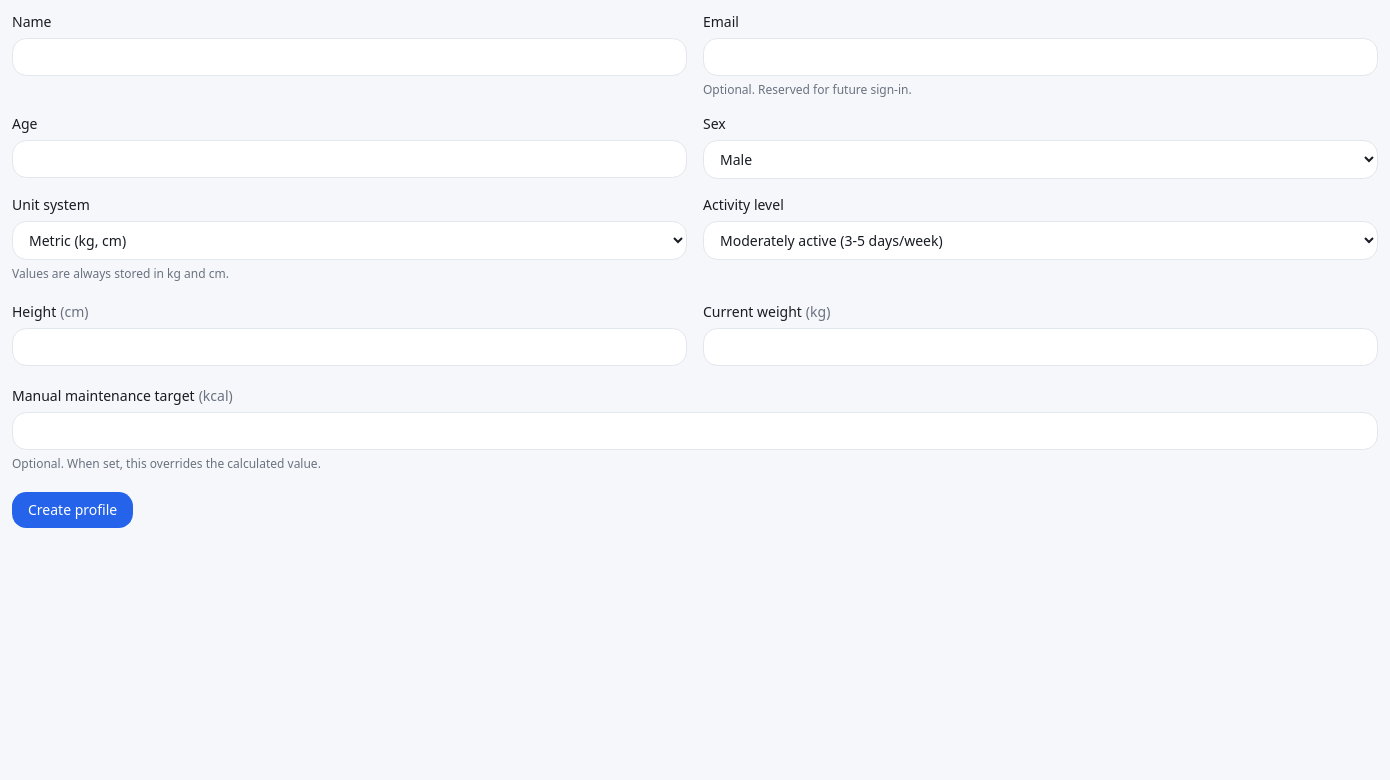
Test case: profile form validation › rejects a height outside 100-250 cm
In the field labelled "Name": (350, 57) top-left (12, 38), bottom-right (687, 76), type "Shreyas"
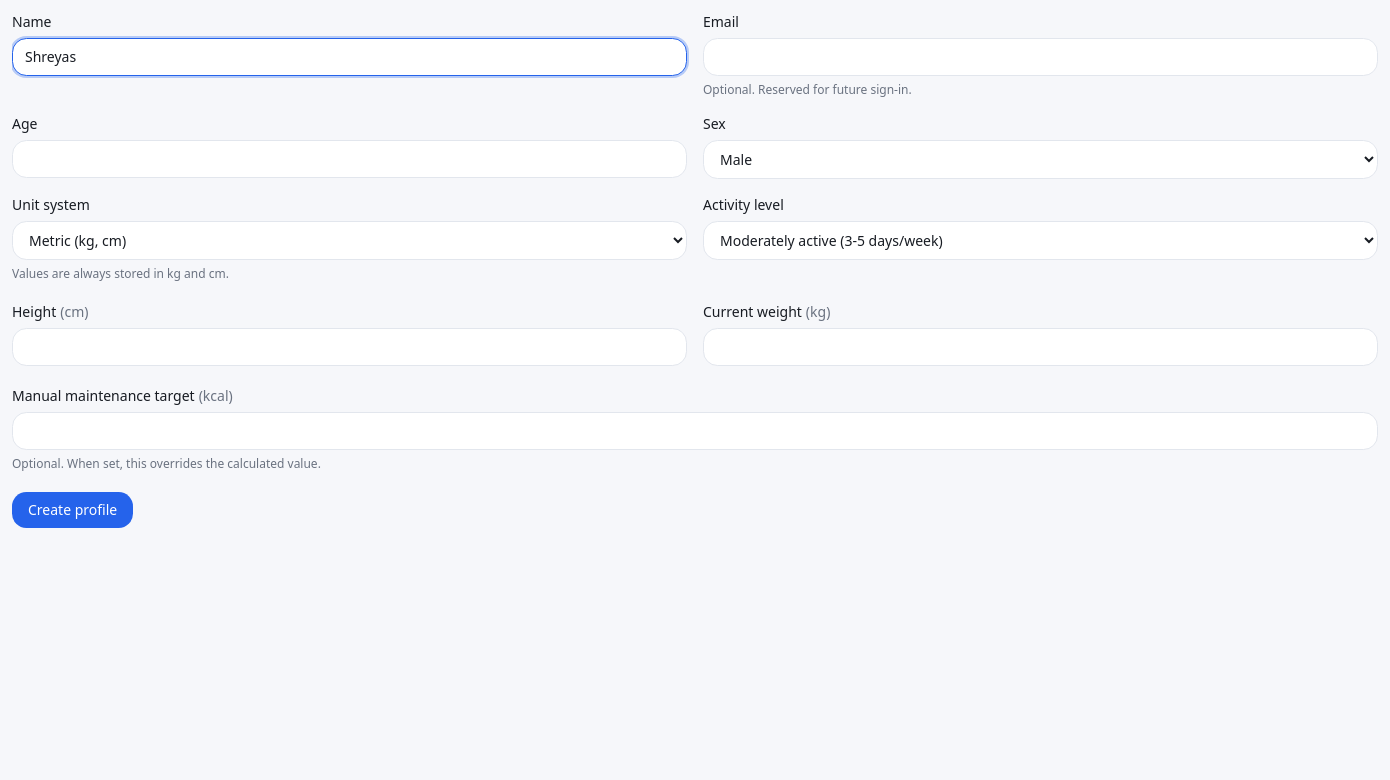
In the number field labelled "Age": (350, 159) top-left (12, 140), bottom-right (687, 178), type "30"
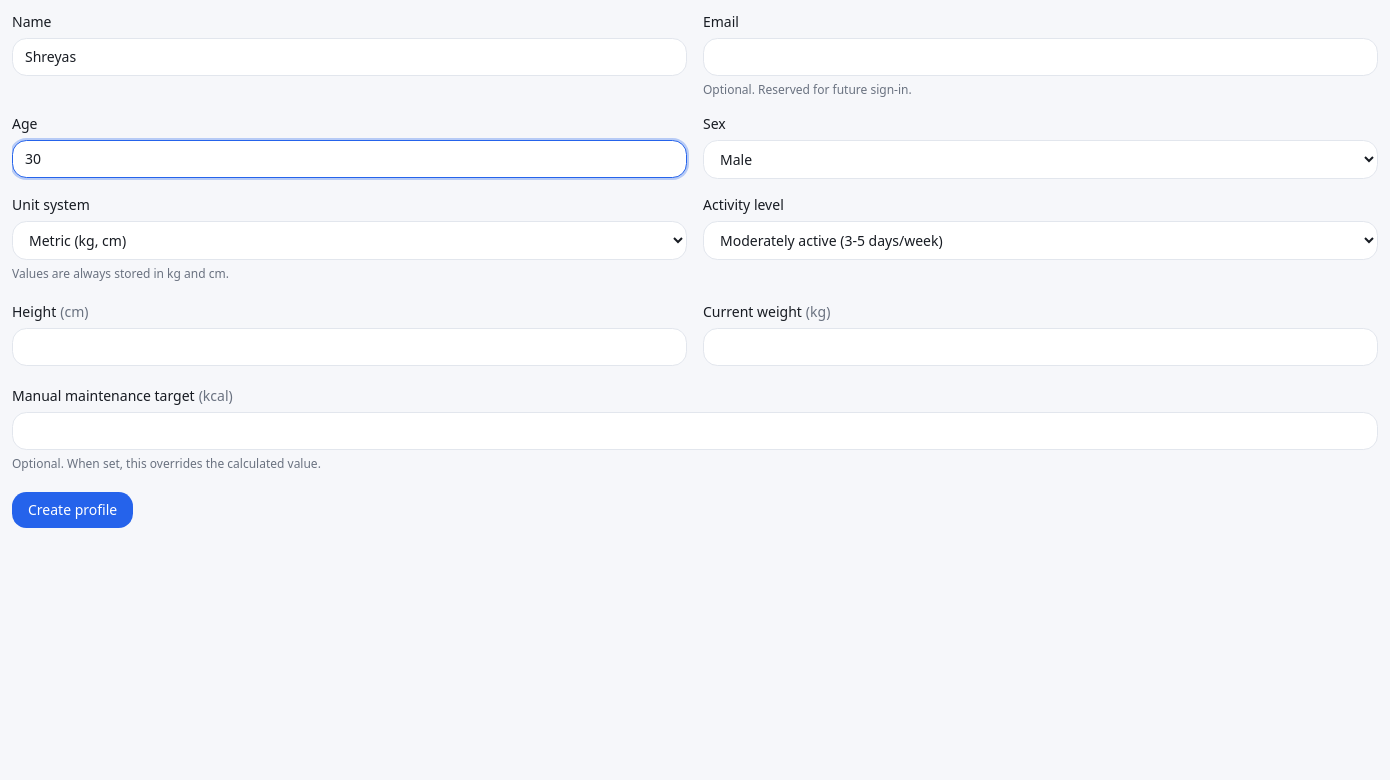
In the number field labelled "Height(cm)": (350, 347) top-left (12, 328), bottom-right (687, 366), type "300"
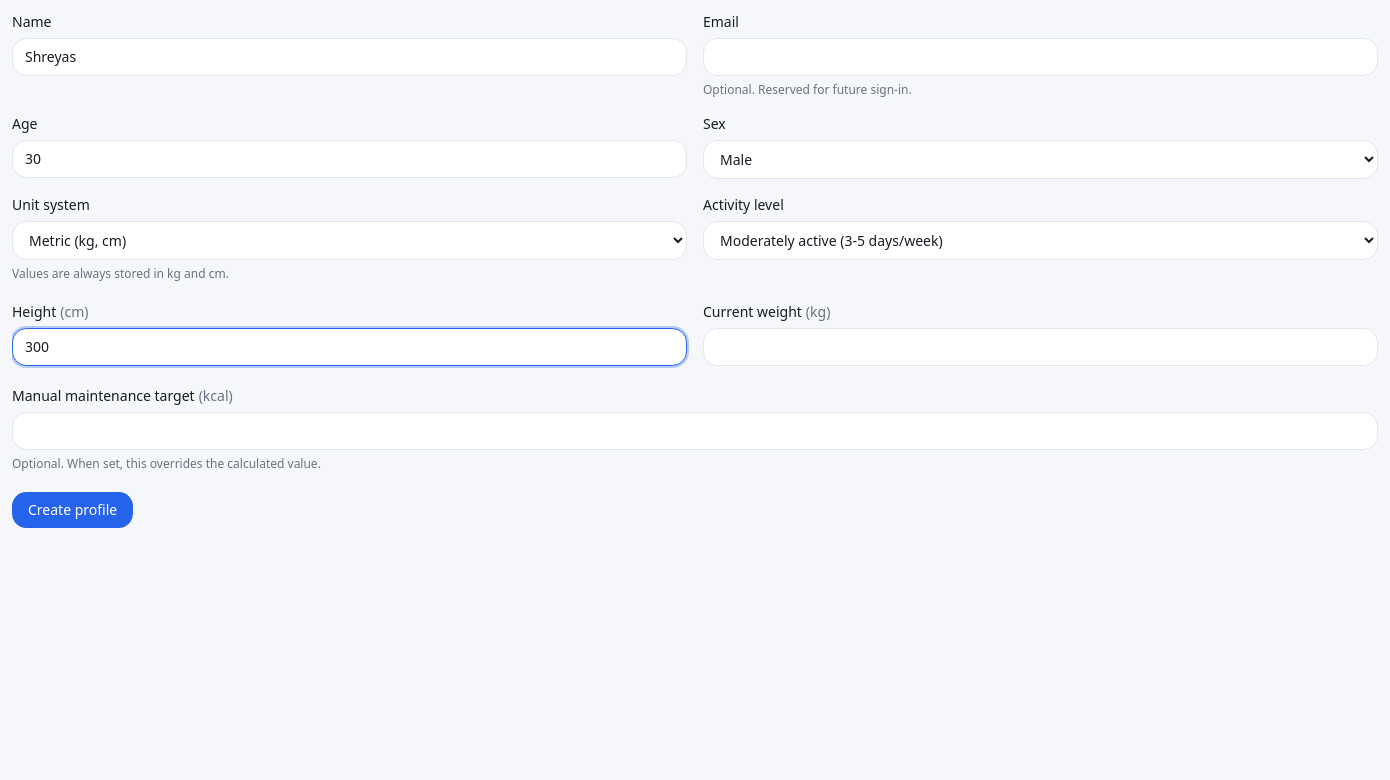
In the number field labelled "Current weight(kg)": (1040, 347) top-left (703, 328), bottom-right (1378, 366), type "80"
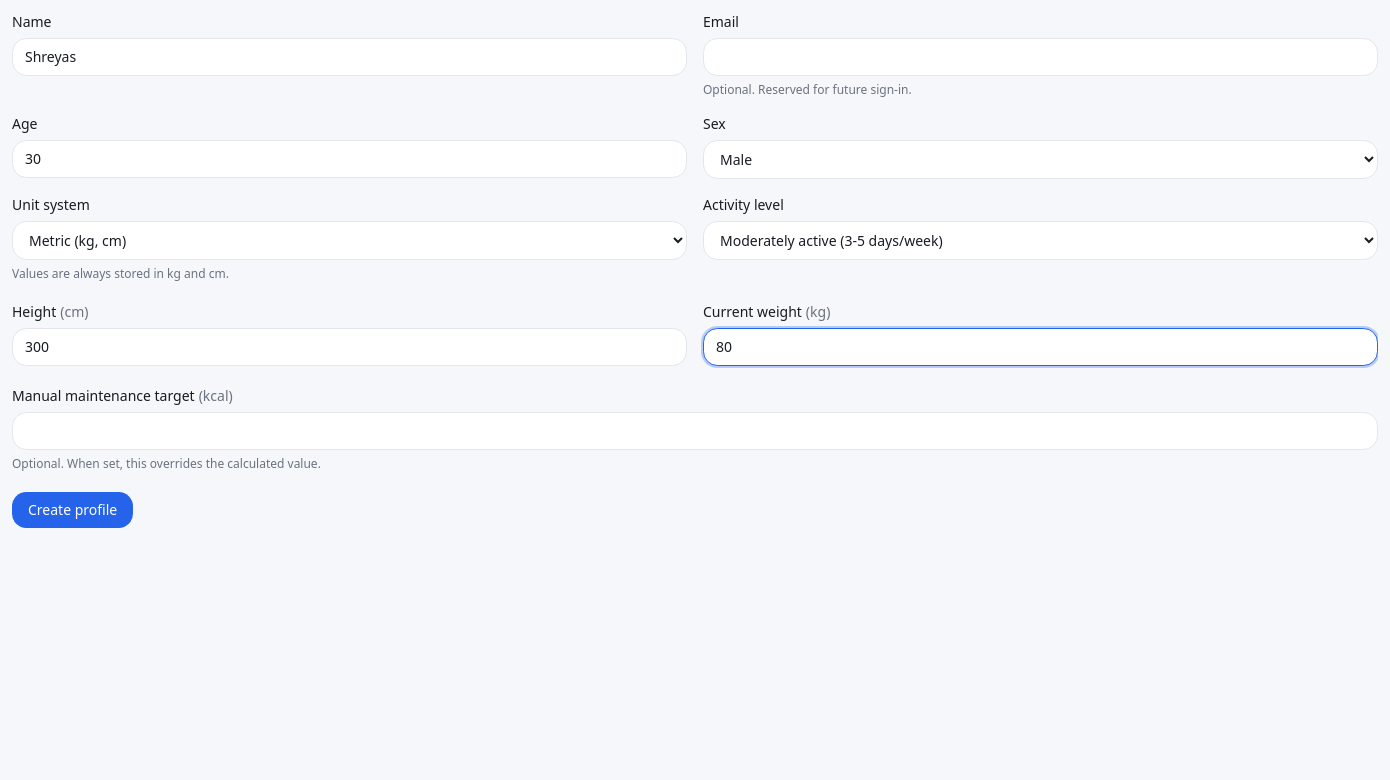
Click the button "Create profile": (73, 510) top-left (12, 492), bottom-right (133, 528)
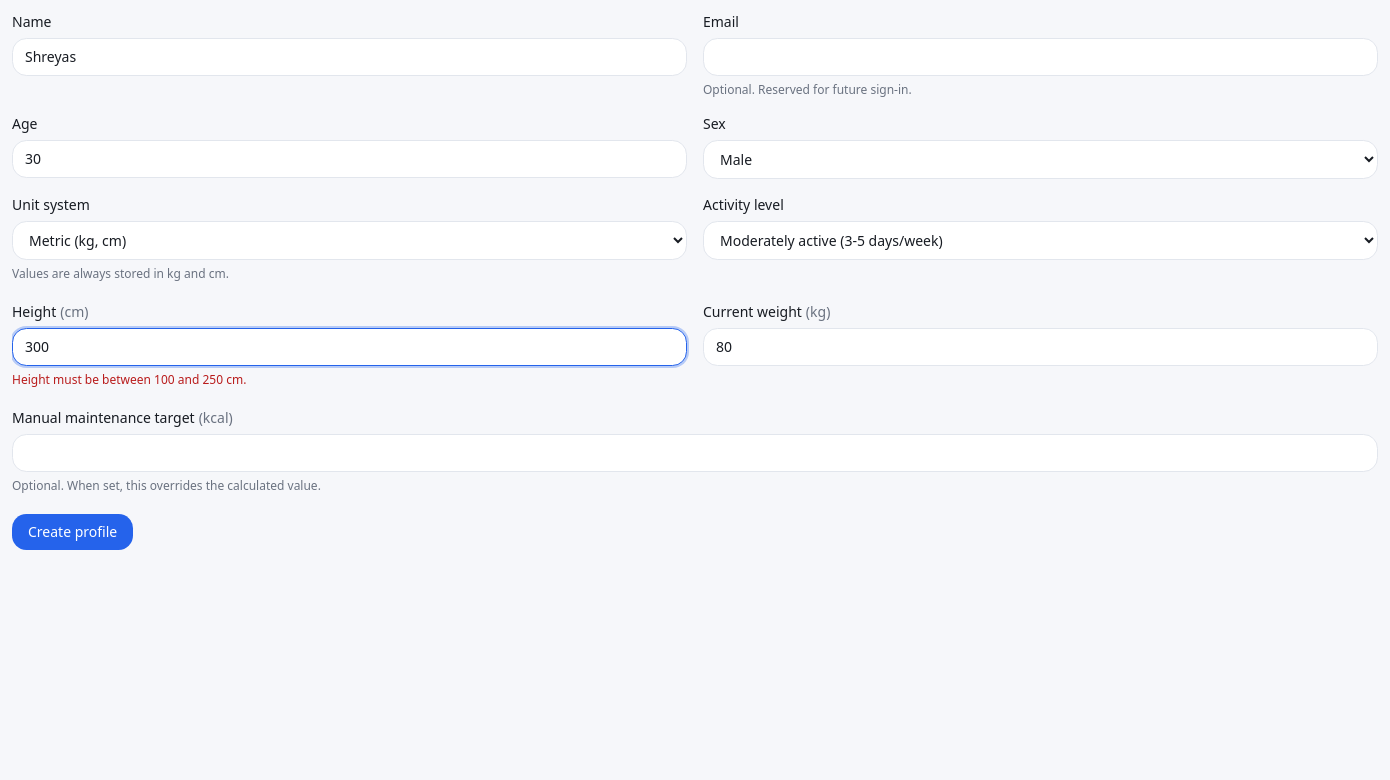
Now the text "Height must be between 100 and 250 cm." is shown, box top-left (12, 371), bottom-right (246, 388)
